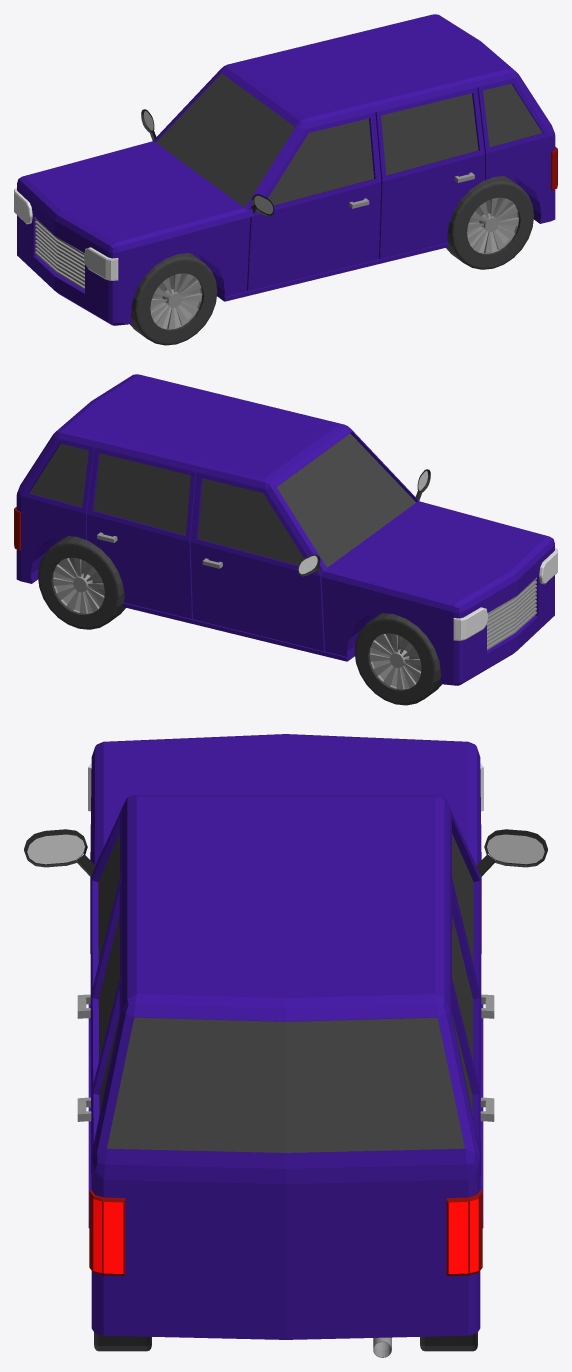
Rendered from car.fbx.
The picture shows the model from 3 angles, top to bottom: view 1: azimuth 30°, elevation 25°; view 2: azimuth 150°, elevation 25°; view 3: azimuth 270°, elevation 25°; orthographic projection. The views are drawn at different scales.
Parts seen in each view (by area): view 1: Car; view 2: Car; view 3: Car.
Boxes of the visible parts, x1,y1,x2,y2 form: Car: (14, 14, 557, 345); Car: (14, 374, 557, 705); Car: (24, 734, 547, 1357).
Size of the model in its own units: 396 by 154 by 196.
